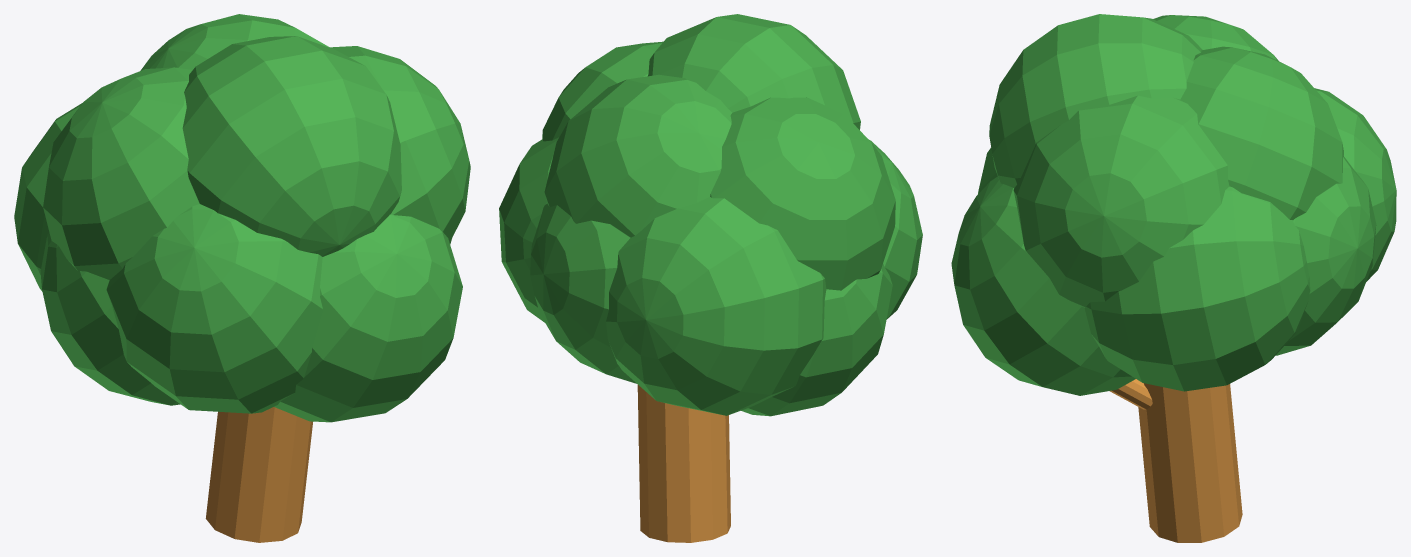
3 views of the same model, side by side, from view 1: azimuth 30°, elevation 25°; view 2: azimuth 150°, elevation 25°; view 3: azimuth 270°, elevation 25° (orthographic). The views are drawn at different scales.
Parts seen in each view (by area): view 1: mesh356013672, mesh364737826, mesh1855559082, mesh1438858638, mesh601188389, mesh768781371, mesh110383421, mesh1272688913, mesh1273830186; view 2: mesh1273830186, mesh1438858638, mesh1272688913, mesh356013672, mesh601188389, mesh1121939001, mesh110383421, mesh90930277, mesh768781371, mesh364737826; view 3: mesh768781371, mesh90930277, mesh1855559082, mesh356013672, mesh1272688913, mesh601188389, mesh1121939001, mesh1273830186, mesh1438858638, mesh1669388240.
Part boxes in pixels (x1,y1,x2,y2): mesh356013672: (182,36,401,256); mesh364737826: (106,204,322,413); mesh1855559082: (274,214,462,422); mesh1438858638: (43,67,199,279); mesh601188389: (205,407,312,542); mesh768781371: (329,46,470,242); mesh110383421: (40,233,180,405); mesh1272688913: (140,14,329,70); mesh1273830186: (14,103,82,291); mesh1273830186: (606,197,826,415); mesh1438858638: (710,97,895,290); mesh1272688913: (544,74,732,237); mesh356013672: (648,14,860,129); mesh601188389: (637,384,730,542); mesh1121939001: (530,203,636,383); mesh110383421: (741,263,892,416); mesh90930277: (499,137,558,322); mesh768781371: (542,41,663,141); mesh364737826: (869,140,922,319); mesh768781371: (1013,95,1229,307); mesh90930277: (1084,186,1310,391); mesh1855559082: (951,176,1135,395); mesh356013672: (989,14,1202,187); mesh1272688913: (1180,46,1343,219); mesh601188389: (1138,383,1242,542); mesh1121939001: (1276,156,1376,355); mesh1273830186: (1314,88,1396,281); mesh1438858638: (1153,15,1278,60); mesh1669388240: (1109,379,1152,409).
Size of the model in its own units: 0.1375 by 0.1739 by 0.1423.
